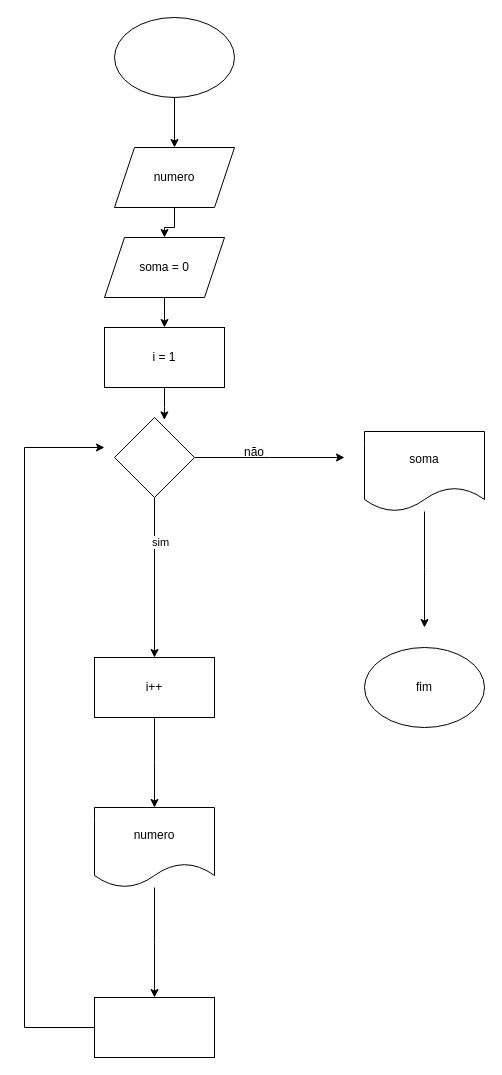
This 502x1075 diagram has some shape labels left out. The shapes that lost their labels are listed below. From the top down, each one's centre as x and y in pixels, then its label:
At point 174,57: "início".
At point 154,457: "i <= 5".
At point 154,1027: "soma = soma + numero".
